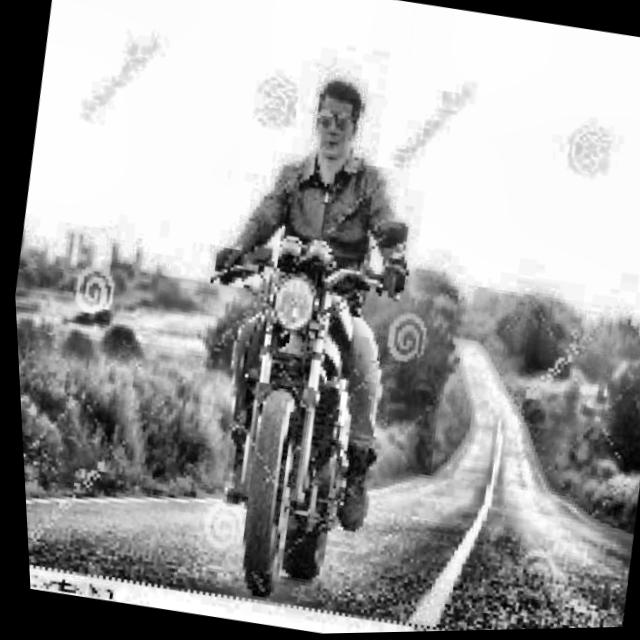motorcycle: (140, 174, 442, 625)
